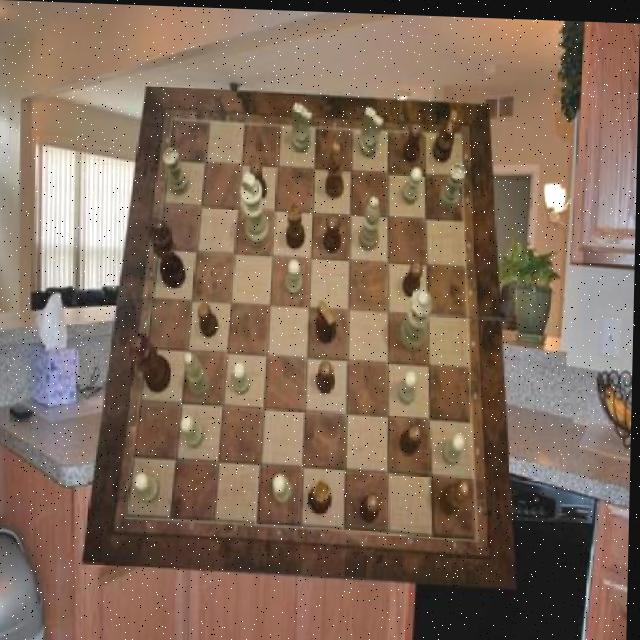bishop: (325, 139, 345, 197), (440, 478, 472, 514)
black-bishop: (149, 217, 187, 287)
black-king: (433, 107, 458, 161), (316, 299, 338, 342)
black-knight: (403, 119, 423, 160), (402, 421, 425, 453), (198, 301, 219, 336), (250, 160, 268, 199), (403, 258, 423, 293), (325, 213, 343, 251), (360, 489, 381, 521), (317, 359, 337, 392)
black-pawn: (129, 332, 173, 391)
black-queen: (287, 201, 307, 248), (310, 478, 333, 513)
black-rook: (185, 350, 212, 397), (359, 194, 381, 249)
white-bishop: (240, 170, 271, 247)
white-king: (359, 104, 384, 156), (292, 99, 312, 151)
white-knight: (401, 164, 422, 202), (181, 413, 205, 446), (445, 429, 468, 463), (136, 472, 161, 503), (274, 471, 295, 503), (399, 367, 418, 402), (285, 258, 303, 294), (234, 361, 252, 396)
white-pawn: (400, 286, 434, 348)
white-queen: (162, 148, 190, 195), (440, 161, 465, 208)
